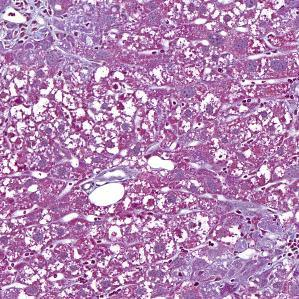fibrosis: (199, 220, 290, 288)
